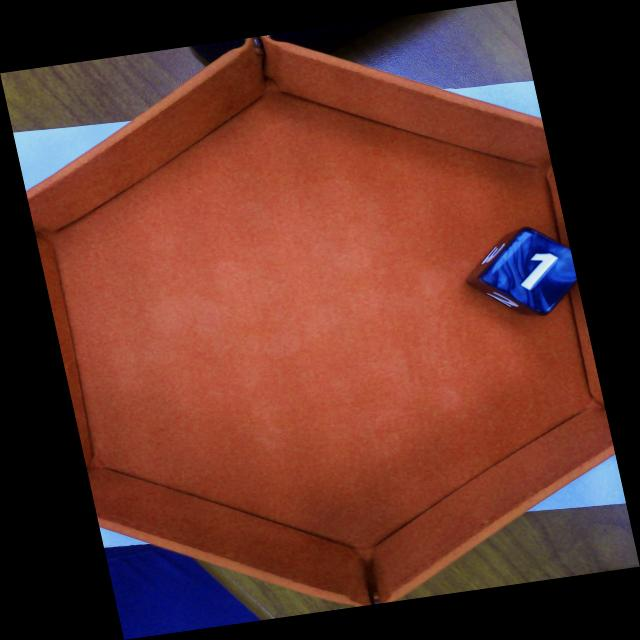dice: (488, 231, 577, 316)
